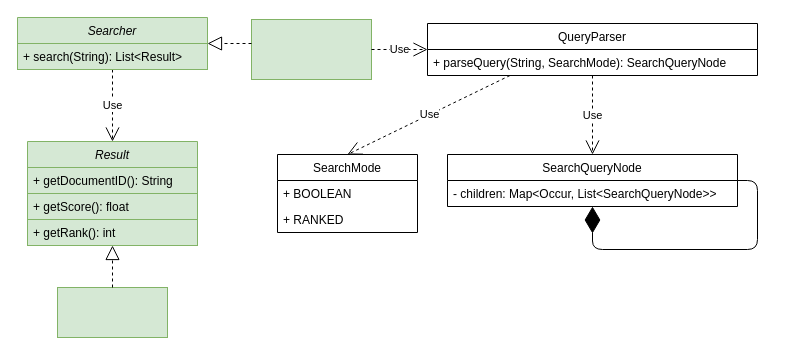
The diagram is 801 pixels wide and 355 high, and some of its shapes have lost their labels. Each missing label, with the centre of its shape:
Index: the point at 311,49
ResultImpl: the point at 112,312
